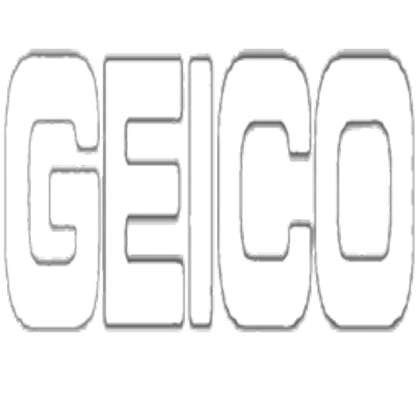Geico: (7, 48, 418, 334)
